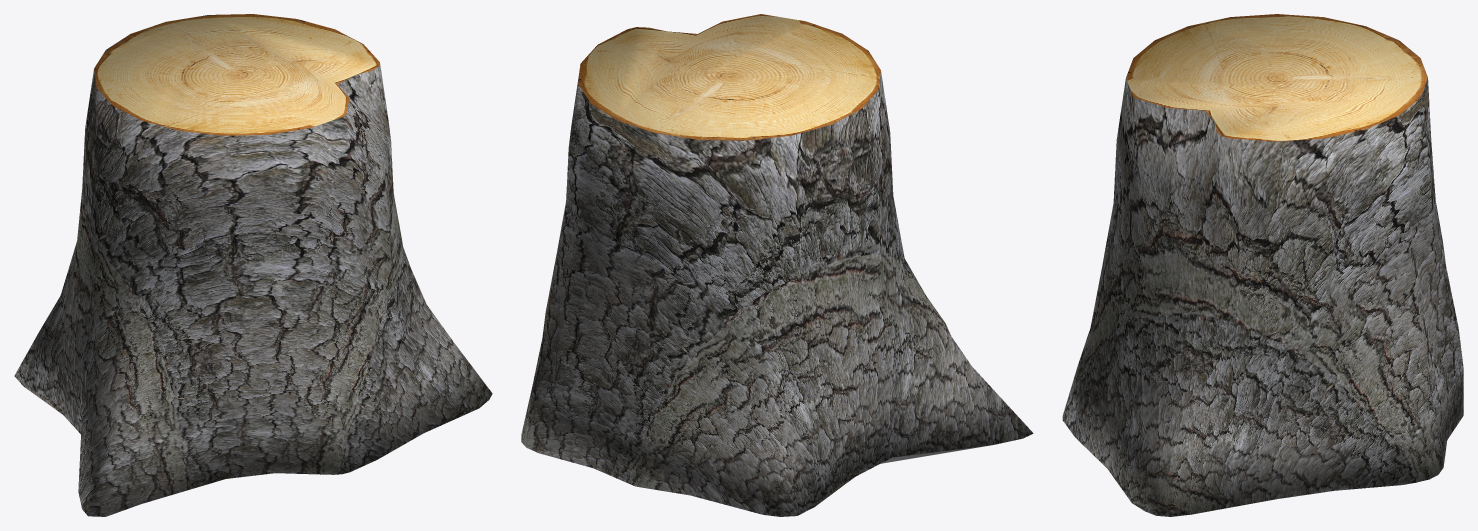
File: Toco de árvore cortado - 01.fbx
The picture shows the model from 3 angles, left to right: view 1: azimuth 30°, elevation 25°; view 2: azimuth 150°, elevation 25°; view 3: azimuth 270°, elevation 25°; orthographic projection. The views are drawn at different scales.
Parts seen in each view (by area): view 1: Cilindro; view 2: Cilindro; view 3: Cilindro.
Boxes of the visible parts, x1,y1,x2,y2 form: Cilindro: [14, 14, 492, 516]; Cilindro: [521, 14, 1033, 516]; Cilindro: [1062, 14, 1463, 516].
Size of the model in its own units: 270 by 208 by 215.
3 materials, 2 textured.
